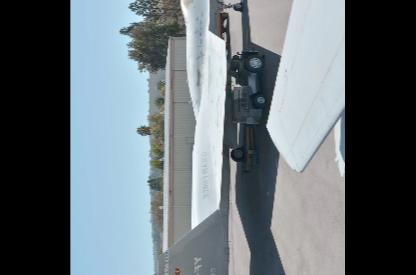US2: (158, 0, 268, 274)
